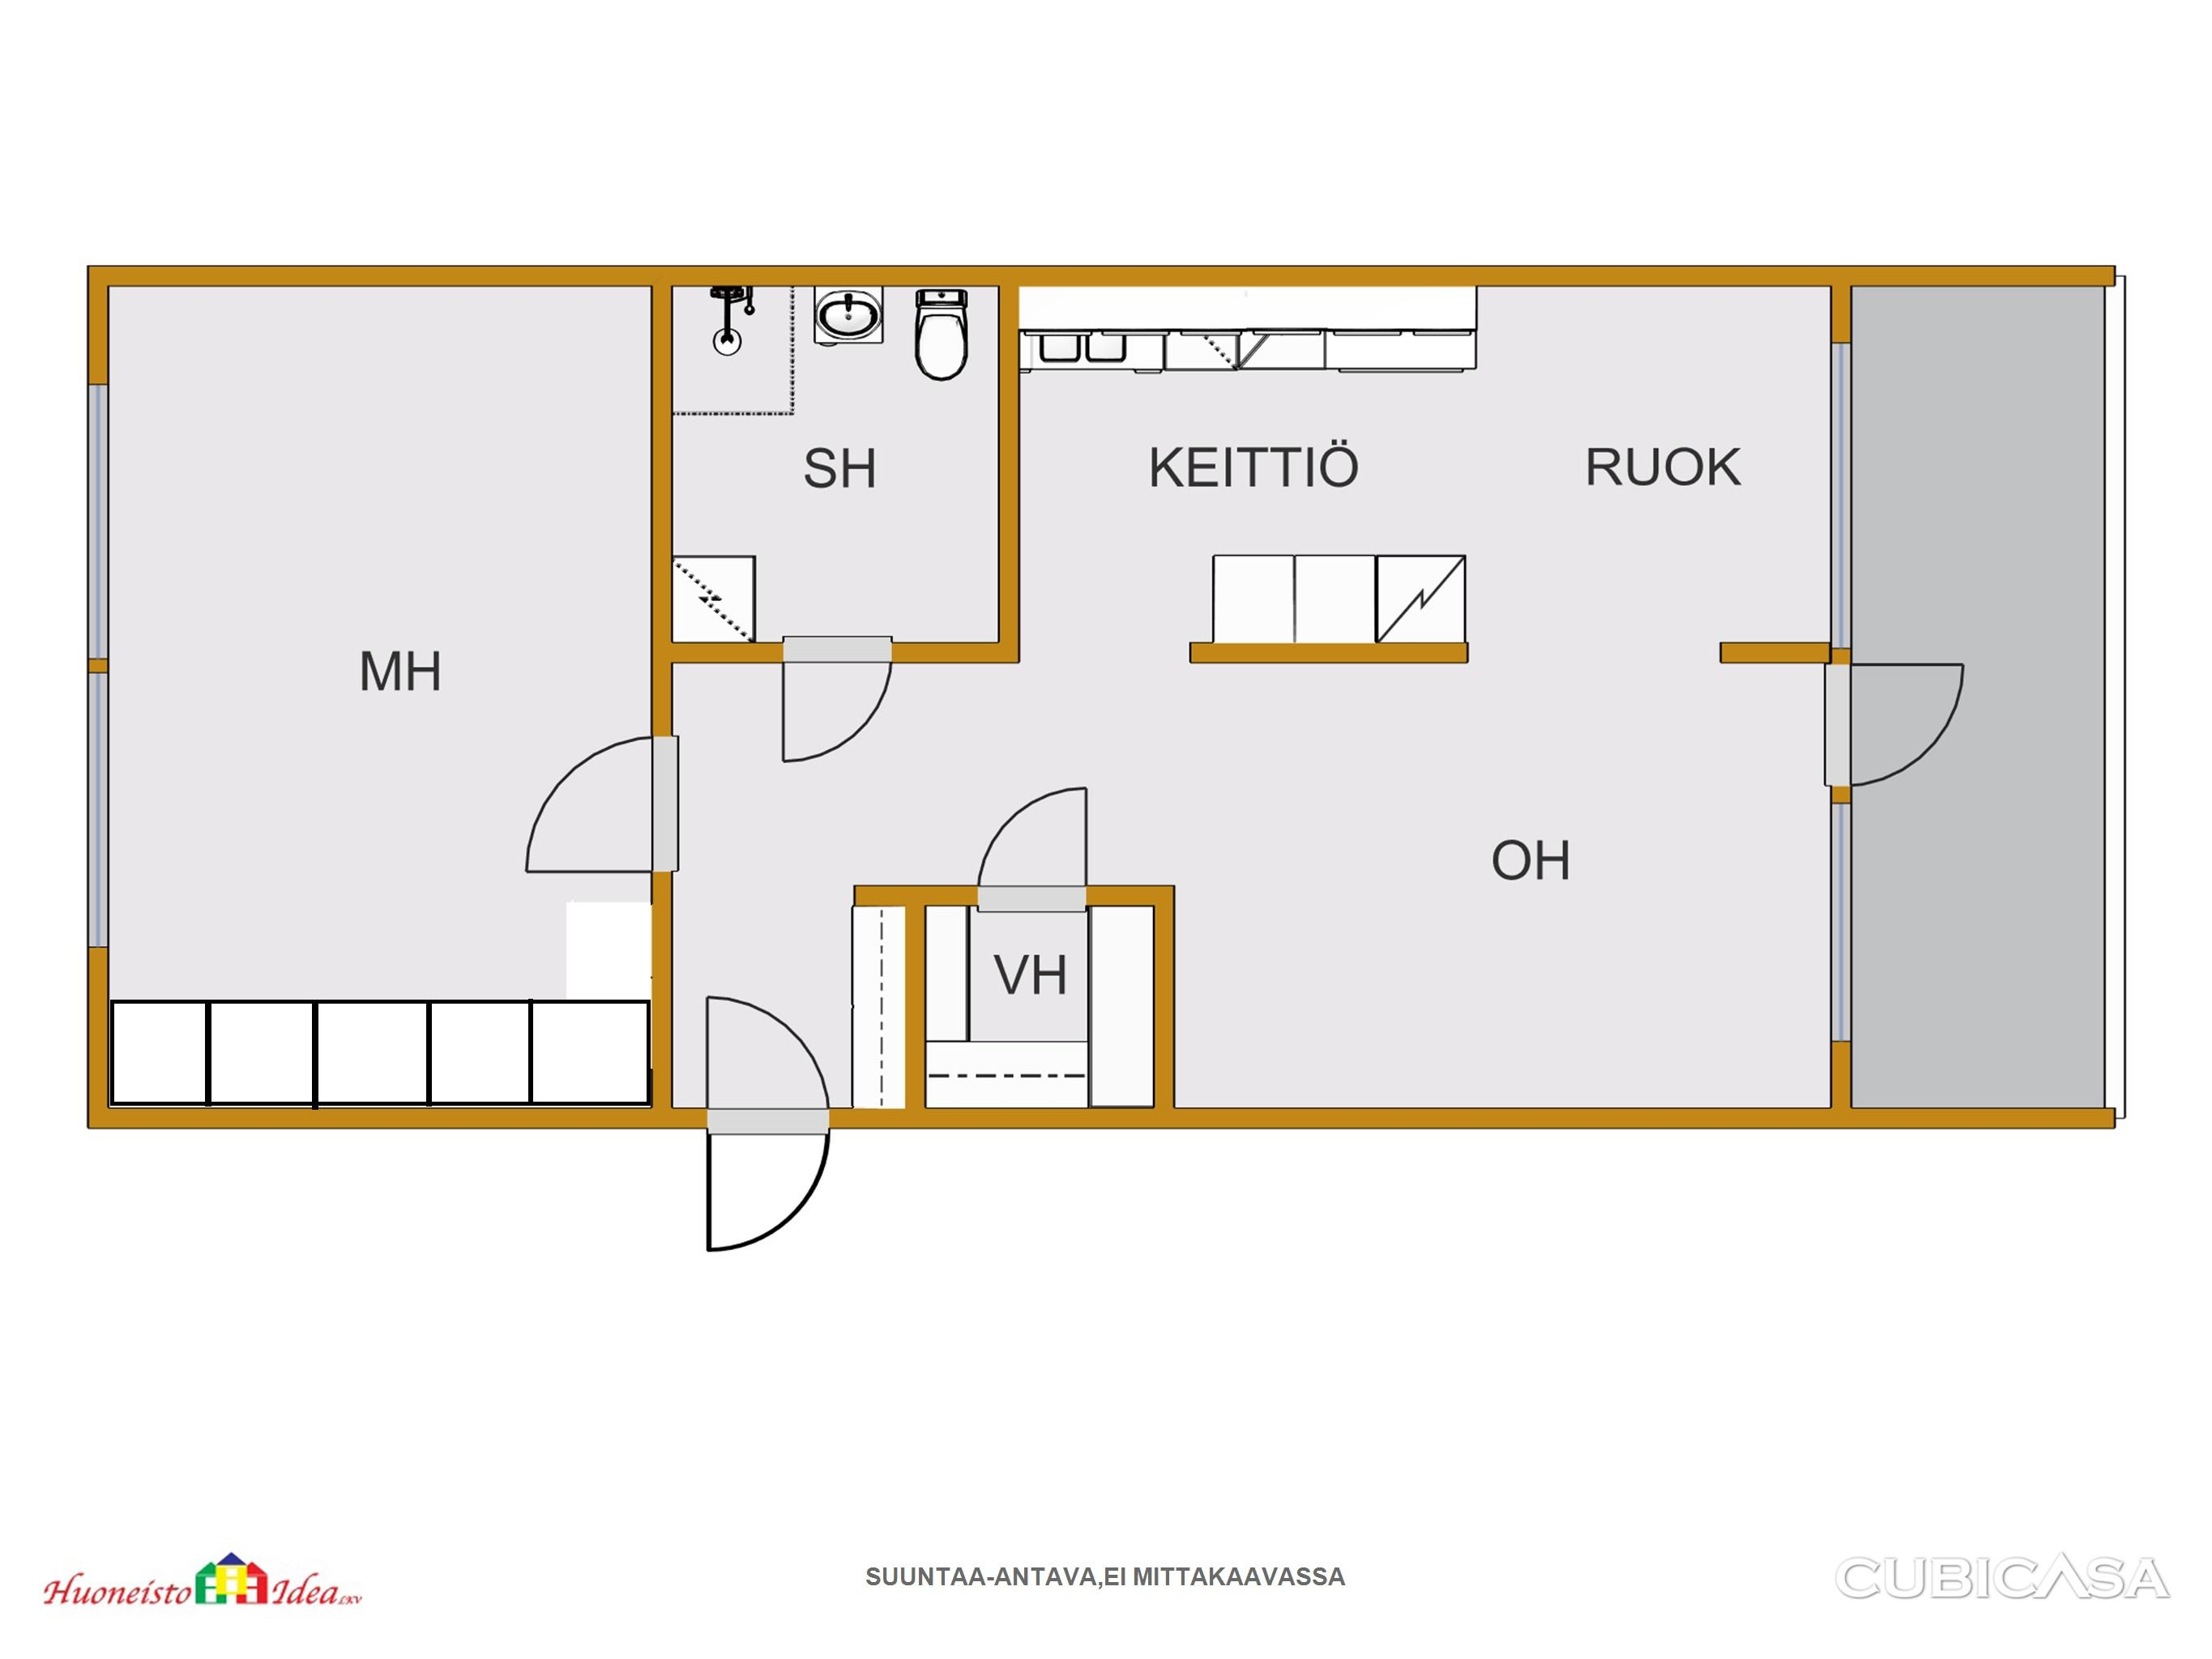bathroom: (671, 289, 1001, 643)
door: (519, 725, 689, 885), (1816, 660, 1973, 791), (702, 1119, 845, 1260), (962, 777, 1100, 924), (769, 620, 905, 769), (694, 990, 833, 1133)
perimeter: (84, 263, 1855, 1131)
window: (1820, 326, 1865, 662), (75, 373, 120, 671), (78, 667, 124, 957), (1822, 786, 1863, 1061)
